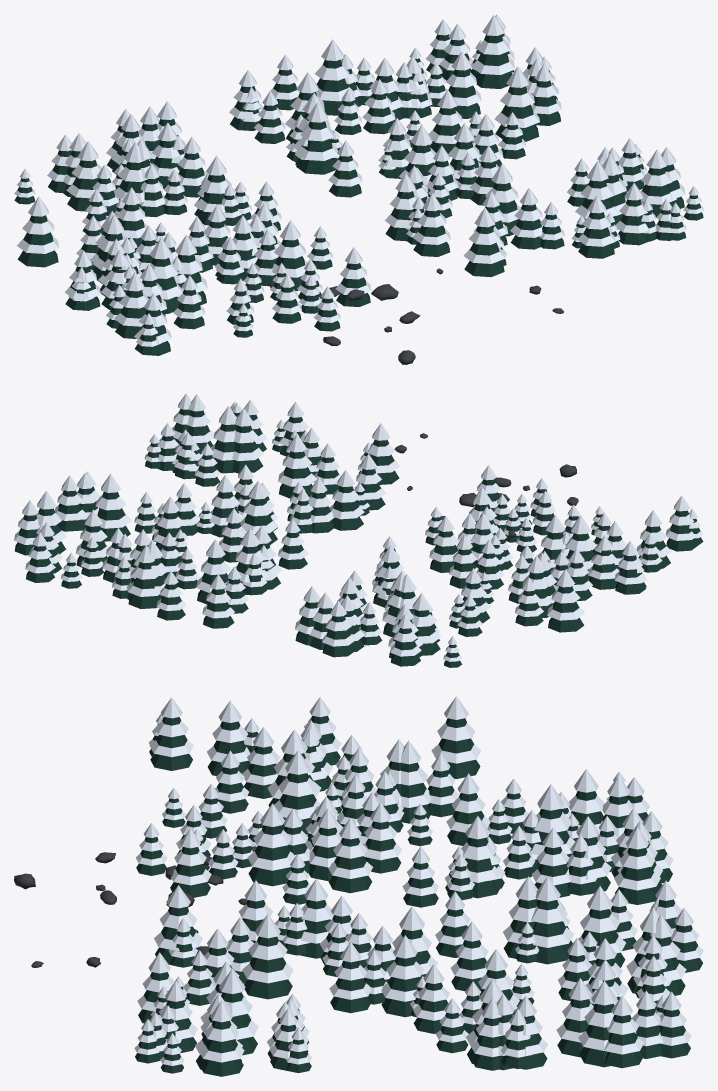
Rendered from frost_peak_scenery.glb.
3 renders of one model, top to bottom at view 1: azimuth 30°, elevation 25°; view 2: azimuth 150°, elevation 25°; view 3: azimuth 270°, elevation 25°, orthographic. The views are drawn at different scales.
Visible parts, largest first — view 1: pines_w, pines_g, rock; view 2: pines_w, pines_g, rock; view 3: pines_w, pines_g, rock.
Boxes of the visible parts, x1,y1,x2,y2 form: pines_w: (14,14,703,346); pines_g: (14,33,703,355); rock: (269,268,563,364); pines_w: (14,393,703,661); pines_g: (14,408,703,667); rock: (394,433,578,537); pines_w: (134,696,703,1065); pines_g: (135,715,702,1076); rock: (14,846,256,967).
Bounding box in the file's own units: 99.05 × 14.1 × 88.6.
